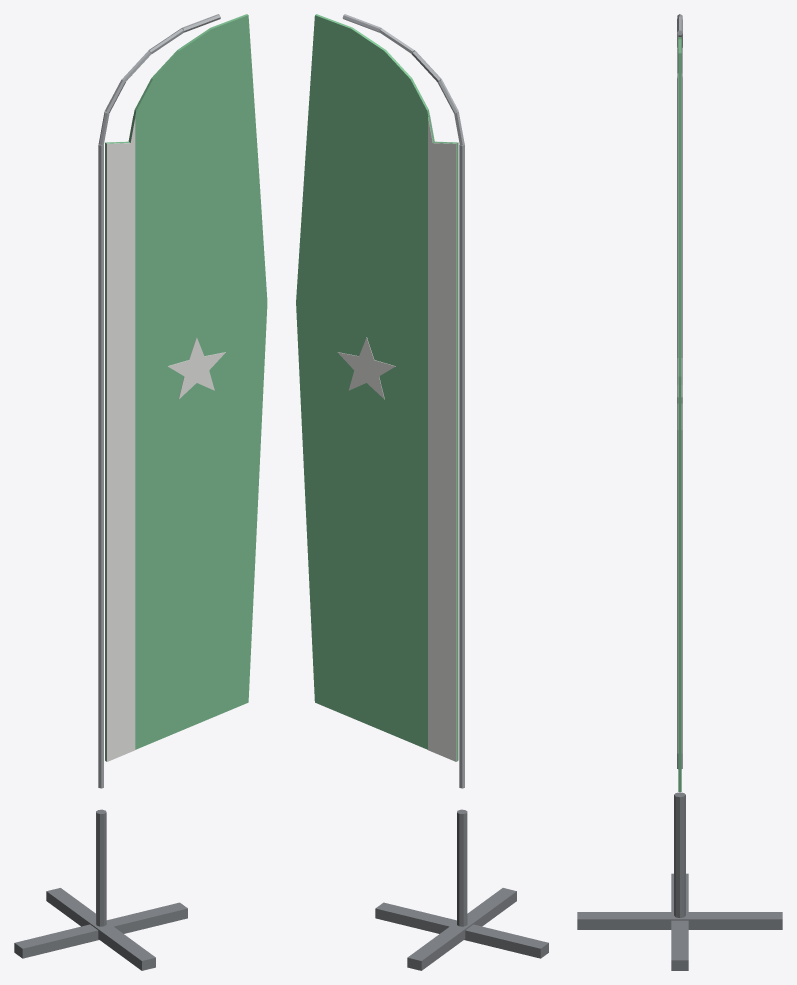
Rendered from flag_g.glb.
The picture shows the model from 3 angles, left to right: view 1: azimuth 30°, elevation 25°; view 2: azimuth 150°, elevation 25°; view 3: azimuth 270°, elevation 25°; orthographic projection. The views are drawn at different scales.
Parts seen in each view (by area): view 1: flag_g_flag_g, flag_g_paint_w, flag_g_steel_d, flag_g_steel; view 2: flag_g_flag_g, flag_g_paint_w, flag_g_steel_d, flag_g_steel; view 3: flag_g_steel_d, flag_g_flag_g, flag_g_paint_w, flag_g_steel.
Boxes of the visible parts, left/top/right/bottom form: flag_g_flag_g: left=105, top=14, right=267, bottom=761; flag_g_paint_w: left=105, top=116, right=225, bottom=761; flag_g_steel_d: left=14, top=809, right=187, bottom=970; flag_g_steel: left=98, top=14, right=220, bottom=788; flag_g_flag_g: left=296, top=14, right=458, bottom=761; flag_g_paint_w: left=337, top=115, right=458, bottom=761; flag_g_steel_d: left=375, top=809, right=548, bottom=970; flag_g_steel: left=342, top=14, right=464, bottom=788; flag_g_steel_d: left=577, top=792, right=782, bottom=970; flag_g_flag_g: left=678, top=37, right=681, bottom=791; flag_g_paint_w: left=677, top=73, right=682, bottom=753; flag_g_steel: left=677, top=14, right=682, bottom=768.
Size of the model in its own units: 1.05 by 3.61 by 0.7.
